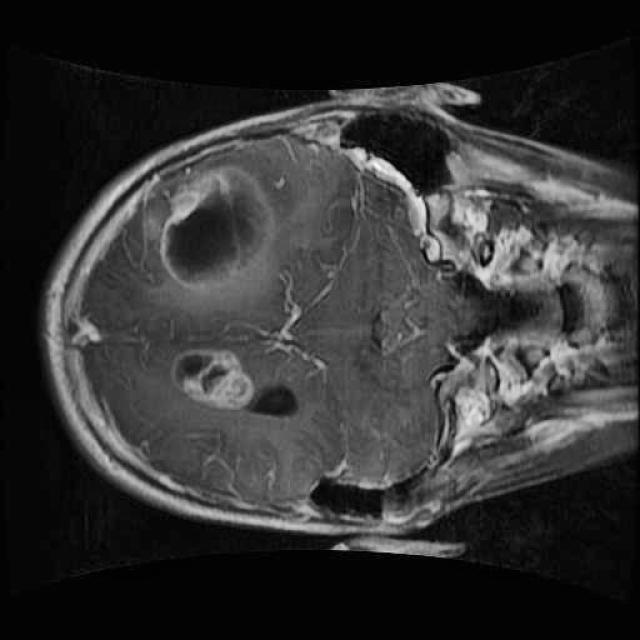Non-Tumor: (144, 151, 286, 299)
